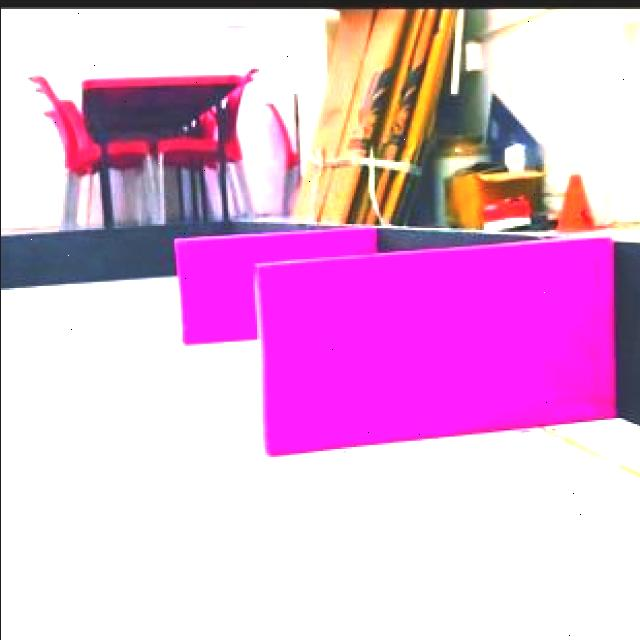xparking: (254, 263, 616, 453), (176, 235, 248, 338)
